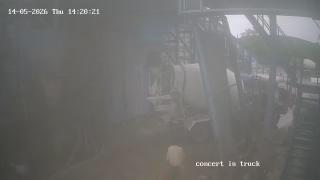cement_mixer_truck: (146, 56, 296, 143)
